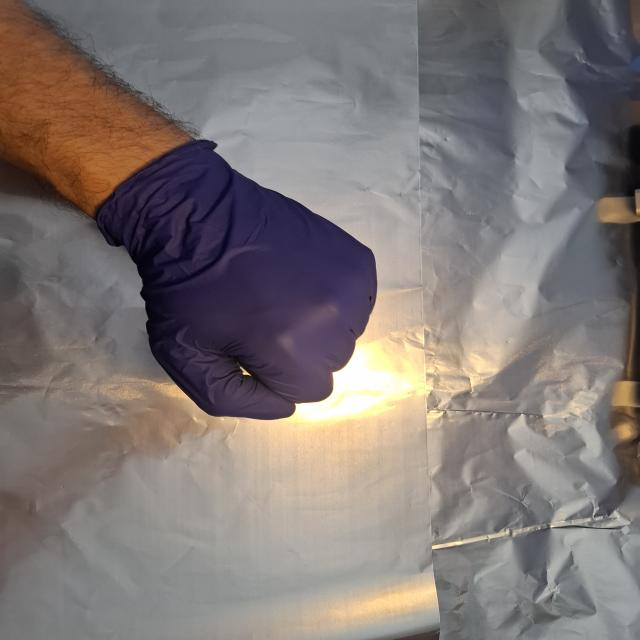glove_on: (96, 142, 384, 422)
